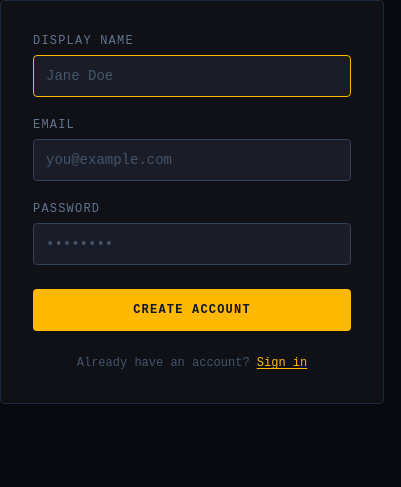
Test: RegisterForm › shows inline error on failure without resetting fields
In the field with placeholder "you@example.com": (192, 160) [33,139,351,181], type "taken@example.com"
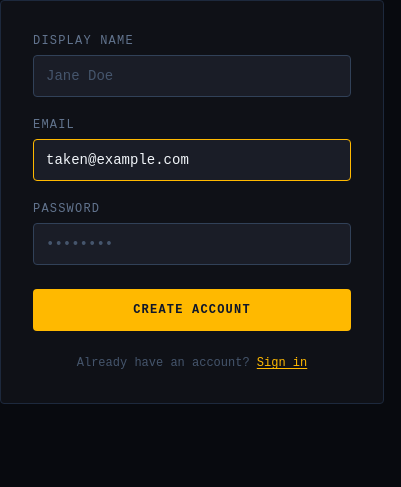
In the password field with placeholder "••••••••": (192, 244) [33,223,351,265], type "password123"
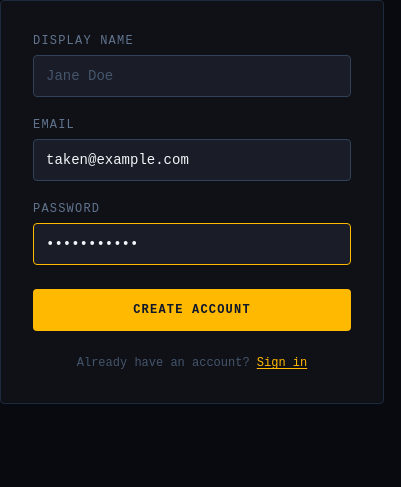
Click the button "Create account": click(192, 310) [33,289,351,331]
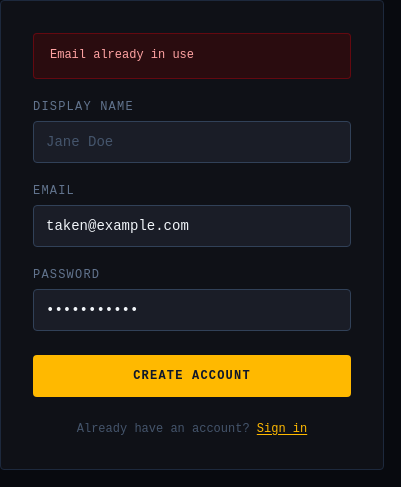
Check: the text "Email already in use" is shown, box [33,33,351,78]
